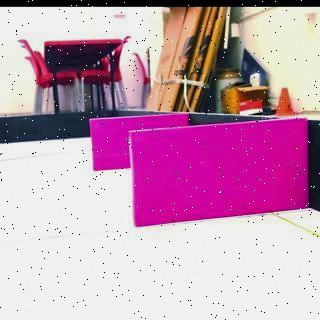xparking: (132, 130, 307, 214), (94, 118, 124, 168)
